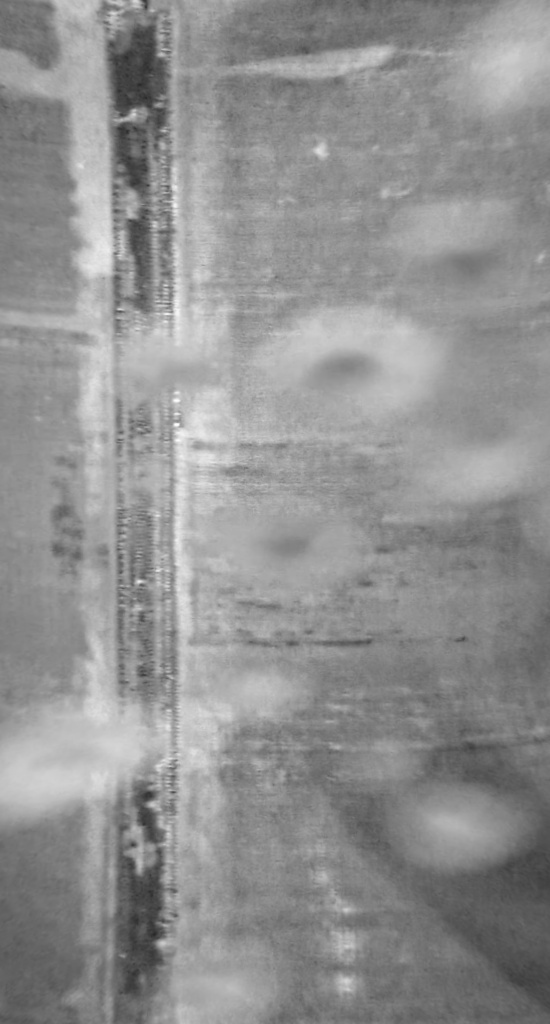splice: (95, 1, 192, 1024)
